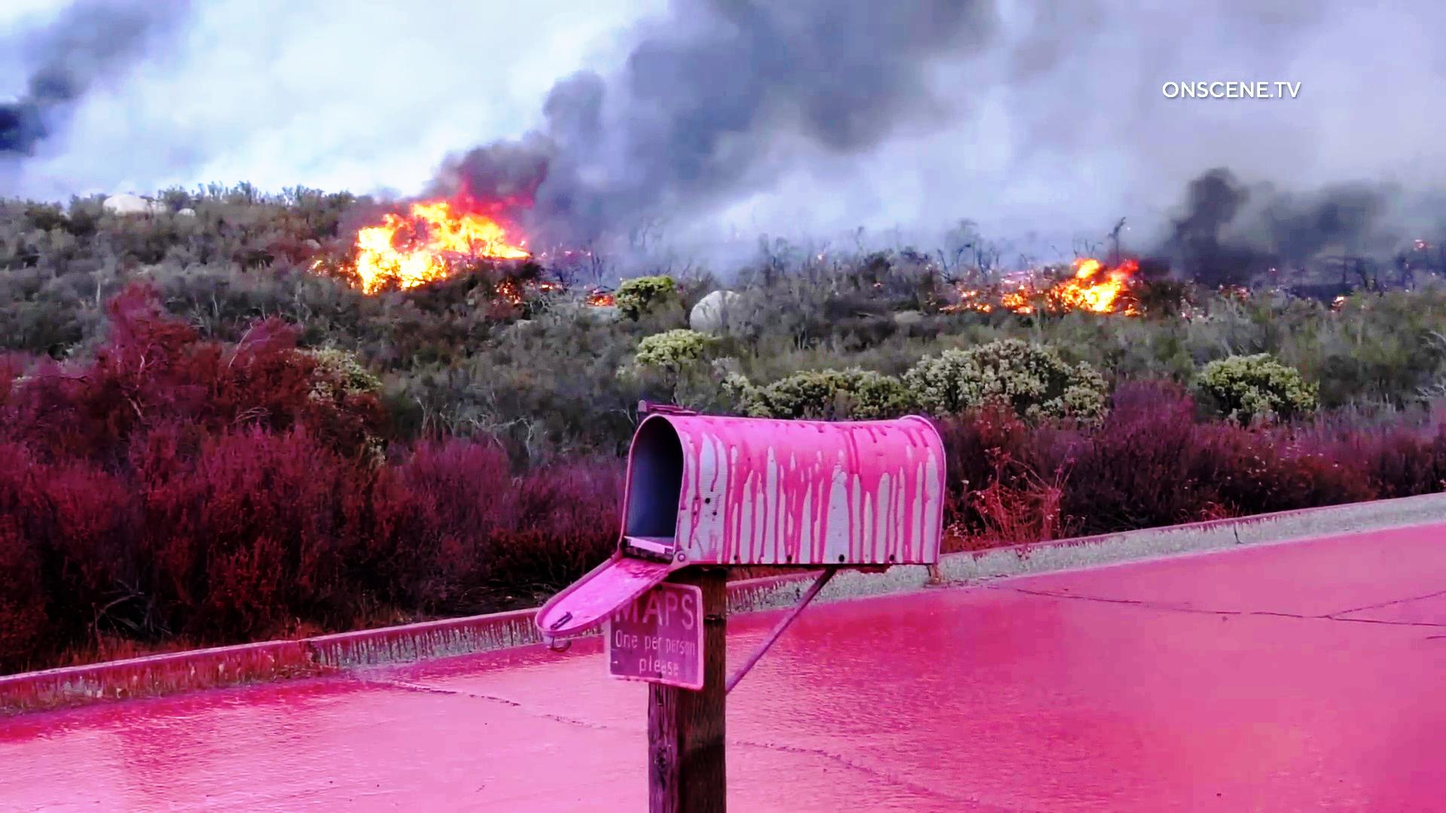fire: (350, 184, 539, 283), (1036, 251, 1156, 335)
smoke: (531, 2, 977, 207), (1141, 132, 1446, 280)
